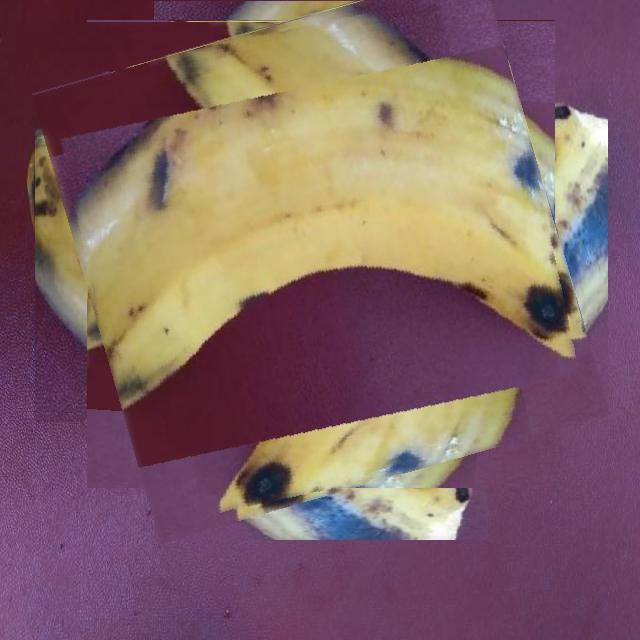Execivamente Madura: (60, 0, 583, 515)
